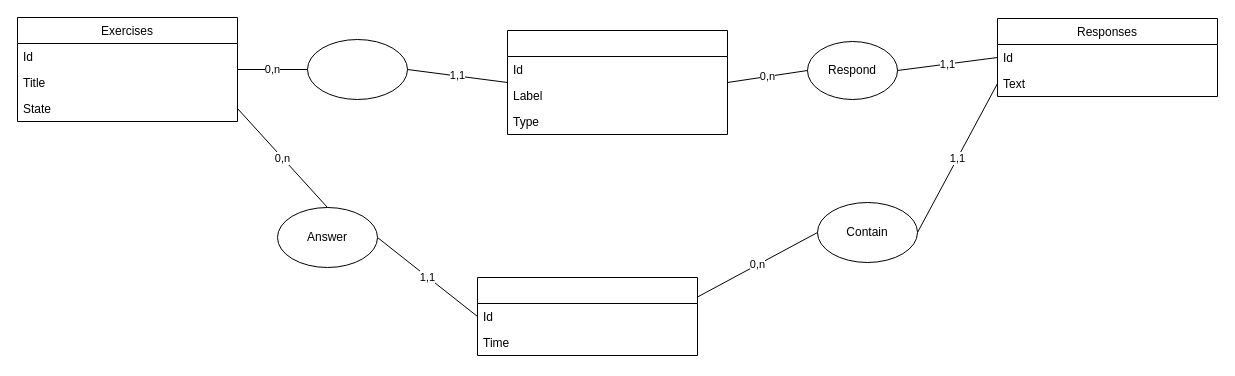
Some shapes in this 1235 by 376 pixel diagram are drawn without their labels. Here are the shapes that lost their labels. From the top down, the box of each, then its label:
(306, 38, 408, 100): Have
(506, 30, 728, 134): Questions
(476, 276, 698, 356): Fulfillements
